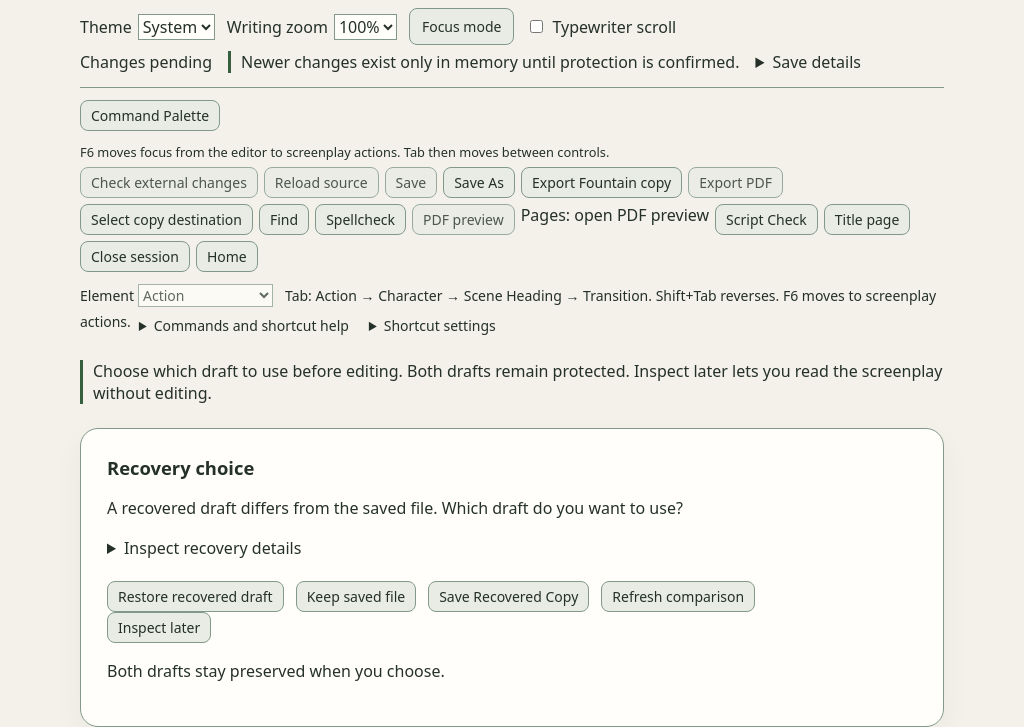
it: M3-12 writing surface › discovers managed recovery after open and adopts it into the editor
This screenshot has width=1024, height=727.
Expected: the button "Save" is shown, [385,167,437,198]
Click the button "Restore recovered draft" at coordinates (195, 596), box [107,581,284,612]
(page scrolled)
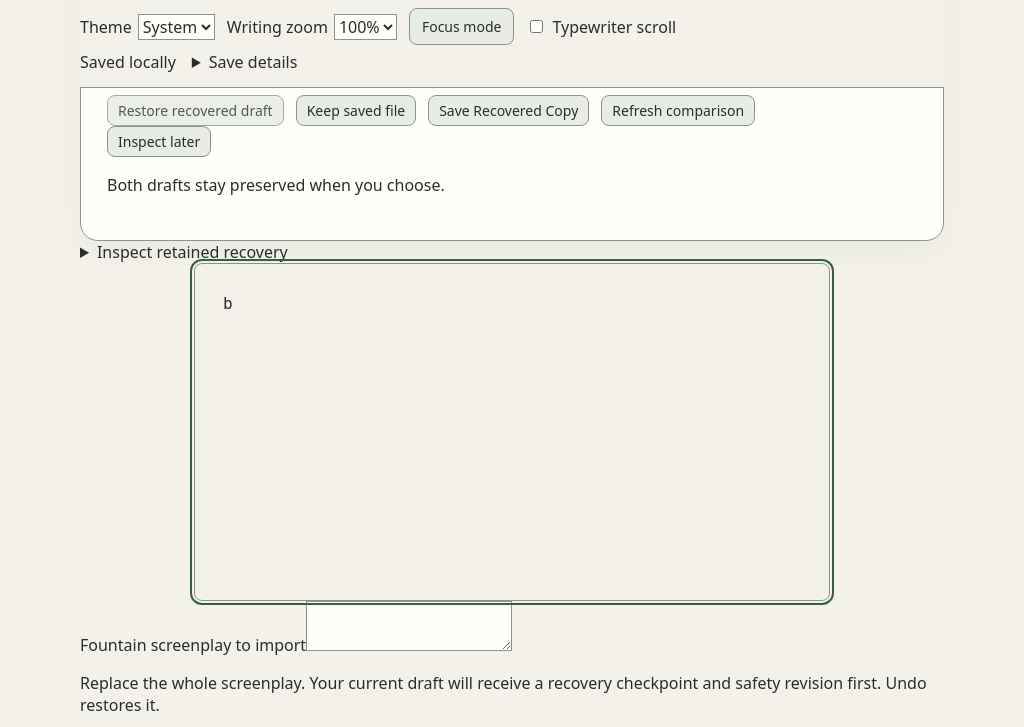
Result: the text "Recovered as current, version 3" is shown at [107,49,917,73]
Result: the element named "Screenplay editor" reads "b" at [223,294,233,313]
